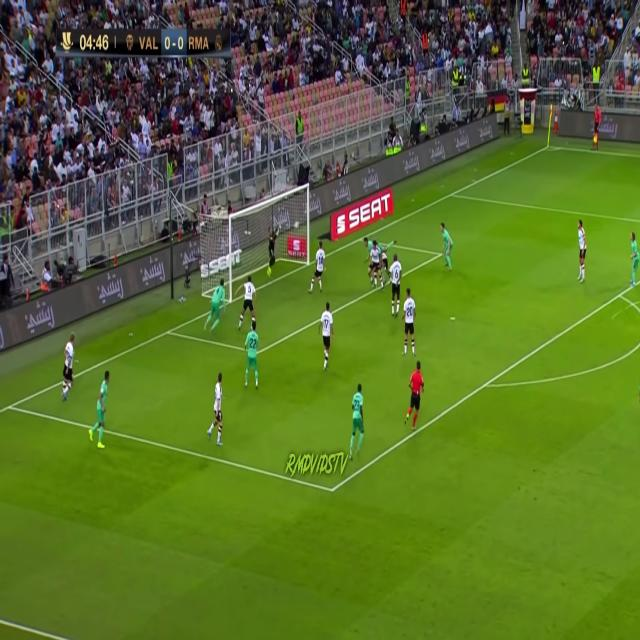Ball: (292, 220, 300, 230)
GoalKeeper: (267, 220, 278, 280)
TEAM 1: (90, 372, 110, 449), (350, 383, 365, 456), (243, 322, 259, 390), (206, 283, 227, 332), (362, 229, 394, 254), (438, 224, 454, 272), (629, 232, 638, 288)
TEAM 2: (208, 373, 225, 446), (407, 364, 424, 430), (61, 333, 77, 401), (318, 304, 333, 371), (403, 288, 417, 355), (389, 255, 404, 311), (576, 220, 588, 286), (310, 246, 325, 294), (368, 238, 381, 285), (241, 280, 256, 316), (381, 252, 389, 283)
